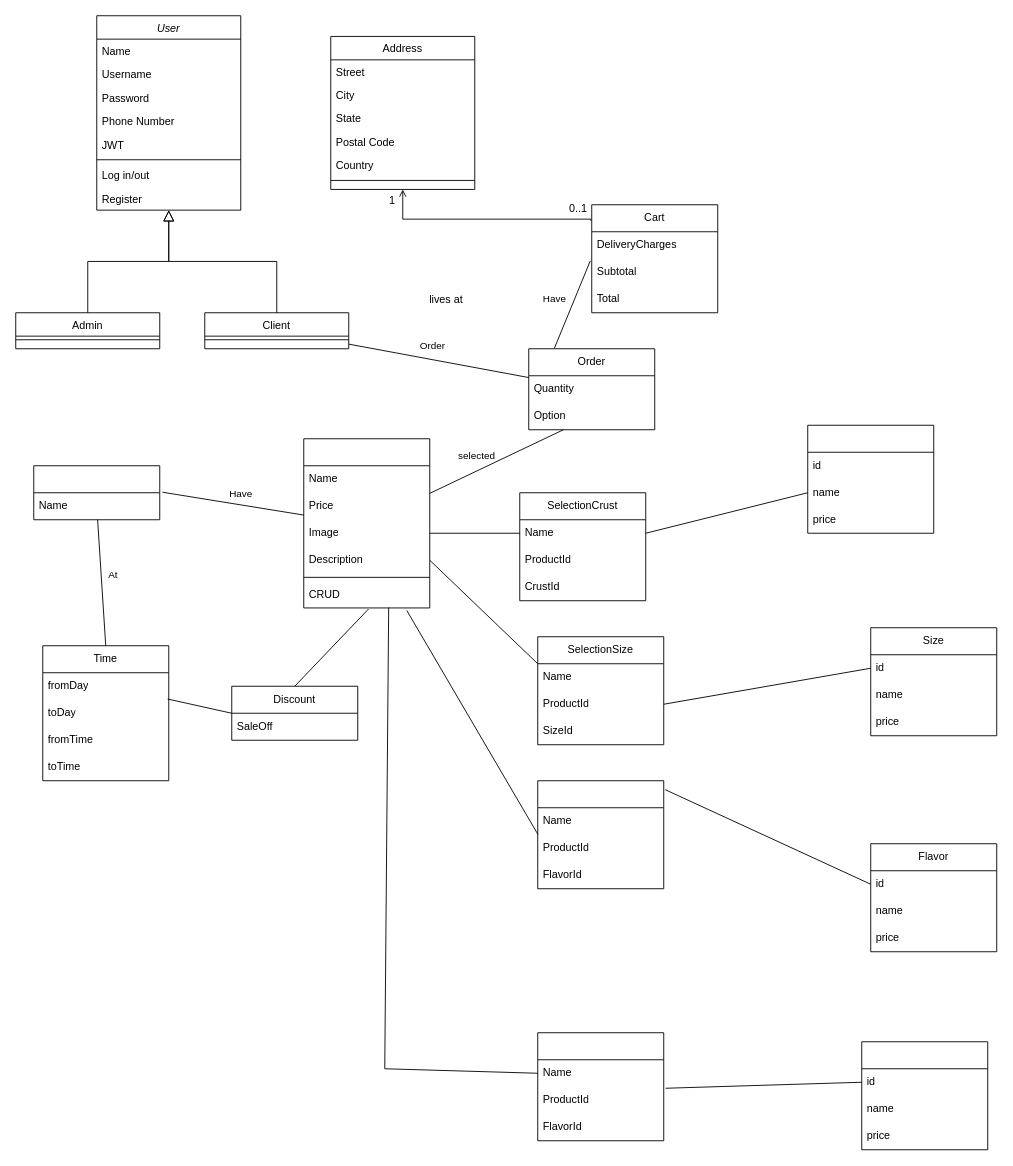
Image size: 1013x1166. Some labels were removed from this diagram. Here are the shapes that lost their labels. From the top down, the box of each, then its label:
(33, 465, 160, 520): Type
(807, 424, 934, 533): Crust
(303, 438, 430, 608): Product
(537, 780, 664, 889): SelectionFlavor
(537, 1032, 664, 1141): SelectionDrink
(861, 1041, 988, 1150): Drink
